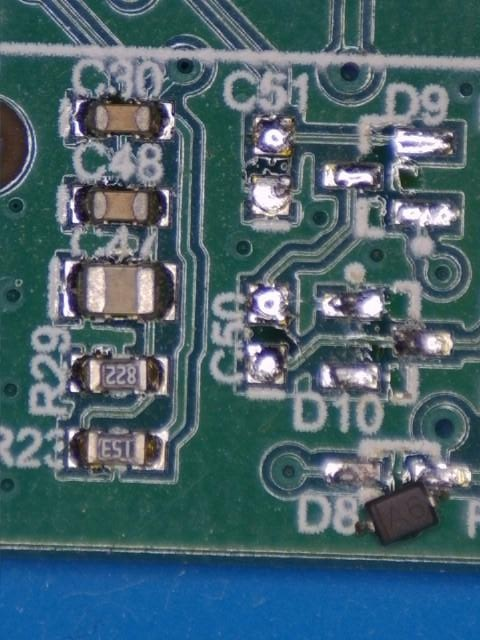pcb_defect: (354, 462, 471, 546)
